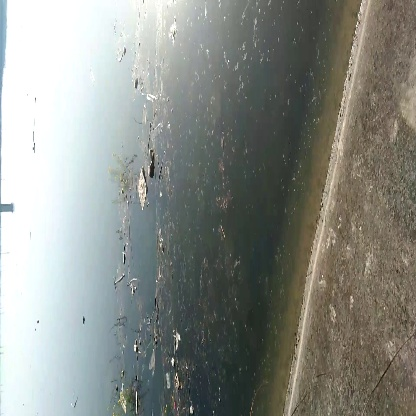plastic-garbage: (129, 170, 153, 209)
